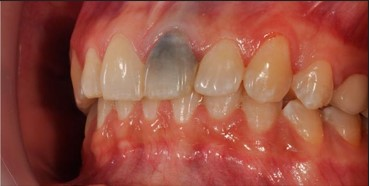UL1BC_healthy: (293, 61, 333, 109)
UL2BC_healthy: (335, 75, 369, 113)
ULCI_decay: (146, 32, 196, 100)
ULC_healthy: (244, 37, 293, 101)
ULLI_healthy: (197, 39, 244, 97)
URCI_healthy: (102, 39, 144, 101)
URLI_healthy: (80, 49, 103, 103)
